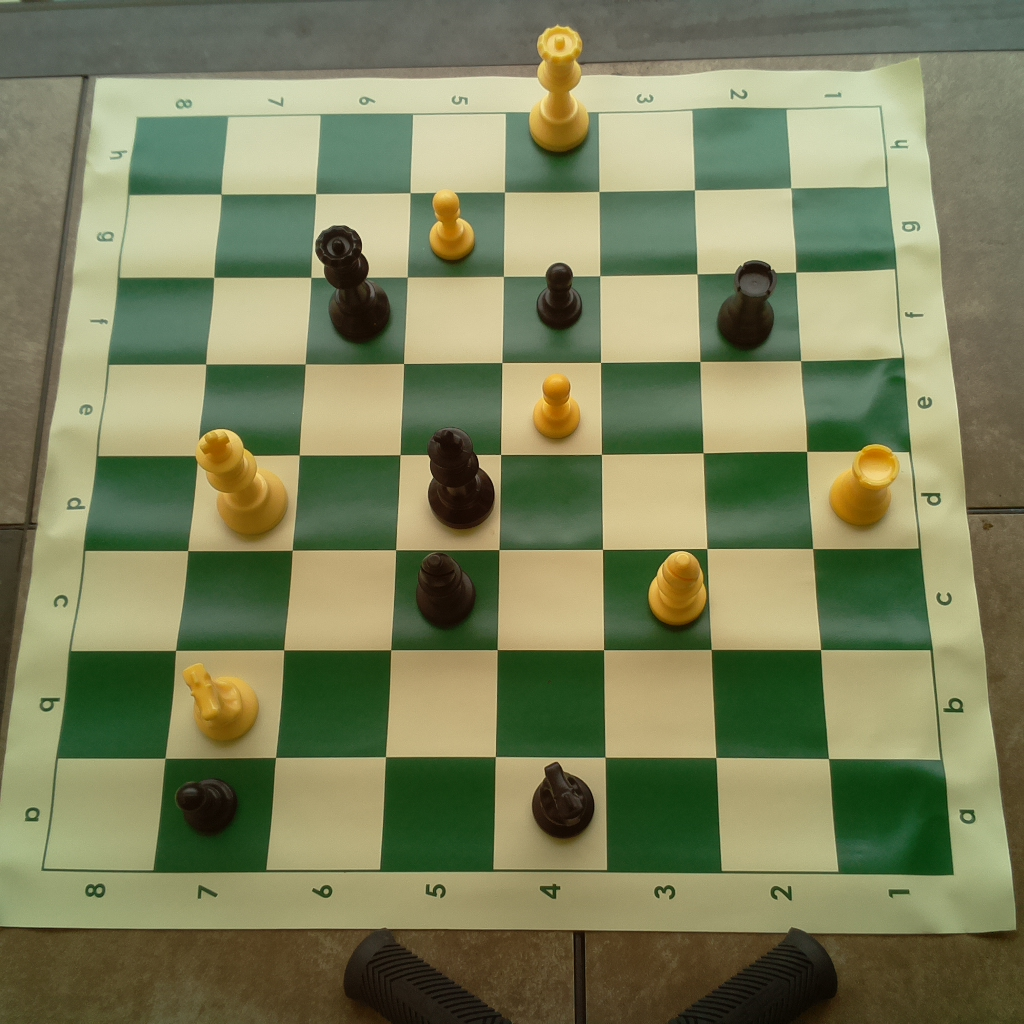black_bishop: (411, 552, 479, 628)
black_king: (423, 422, 497, 531)
black_knight: (525, 756, 596, 839)
black_pawn: (170, 769, 245, 841), (529, 258, 588, 327)
black_queen: (310, 221, 394, 345)
black_rook: (711, 254, 781, 357)
file_a: (44, 756, 958, 877)
file_b: (54, 652, 945, 760)
file_c: (67, 551, 934, 652)
file_d: (85, 454, 918, 549)
file_e: (99, 357, 910, 452)
file_f: (108, 267, 902, 361)
file_g: (118, 186, 894, 280)
file_h: (131, 106, 890, 196)
outline: (42, 106, 953, 875)
rank_1: (786, 105, 957, 878)
rank_2: (693, 108, 838, 874)
rank_3: (597, 110, 724, 873)
rank_4: (490, 112, 610, 867)
rank_5: (380, 113, 507, 873)
rank_6: (264, 115, 415, 870)
rank_7: (155, 114, 320, 873)
rank_8: (44, 115, 228, 873)
white_bishop: (644, 548, 710, 627)
white_king: (190, 423, 293, 541)
white_knight: (179, 654, 262, 747)
white_pawn: (533, 371, 584, 440), (428, 190, 476, 258)
white_queen: (518, 18, 594, 154)
white_rook: (820, 440, 903, 528)
